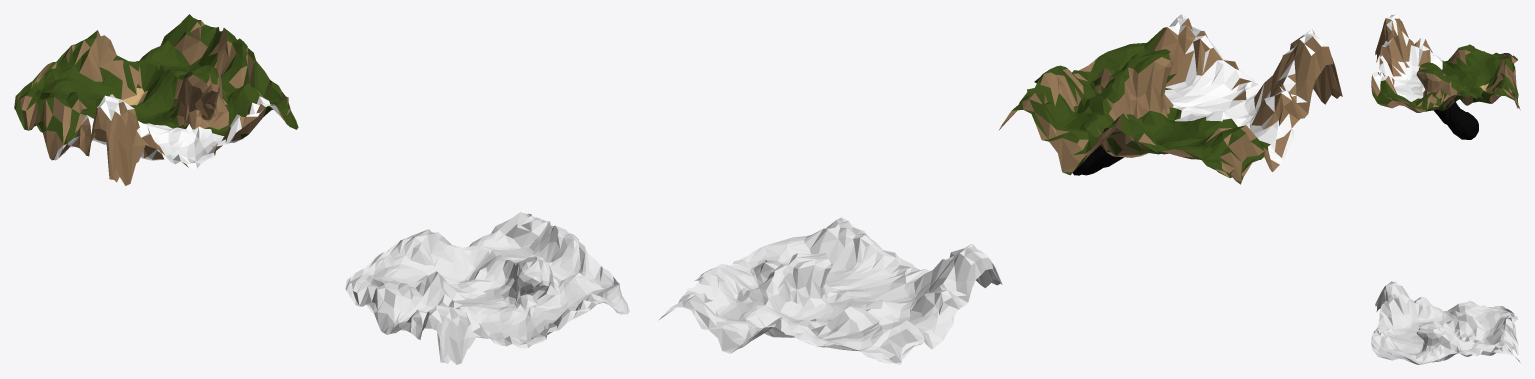
File: Grassy Terrain 01.FBX
The picture shows the model from 3 angles, left to right: view 1: azimuth 30°, elevation 25°; view 2: azimuth 150°, elevation 25°; view 3: azimuth 270°, elevation 25°; orthographic projection. The views are drawn at different scales.
Parts seen in each view (by area): view 1: Plane002, Grass, Rock, Snow; view 2: Plane002, Rock, Grass, Snow, CaveOccluder; view 3: Plane002, Grass, Rock, Snow, CaveOccluder.
Boxes of the visible parts, x1=… form: Plane002: x1=345, y1=212, x2=629, y2=364; Grass: x1=14, y1=14, x2=298, y2=167; Rock: x1=14, y1=19, x2=296, y2=185; Snow: x1=54, y1=94, x2=280, y2=168; Plane002: x1=658, y1=217, x2=1002, y2=364; Rock: x1=999, y1=18, x2=1342, y2=181; Grass: x1=1012, y1=28, x2=1270, y2=184; Snow: x1=1164, y1=14, x2=1328, y2=164; CaveOccluder: x1=1073, y1=117, x2=1141, y2=175; Plane002: x1=1371, y1=281, x2=1520, y2=364; Grass: x1=1372, y1=44, x2=1518, y2=111; Rock: x1=1371, y1=18, x2=1520, y2=112; Snow: x1=1372, y1=14, x2=1442, y2=101; CaveOccluder: x1=1434, y1=102, x2=1478, y2=139.
Size of the model in its own units: 1169 by 711 by 465.
